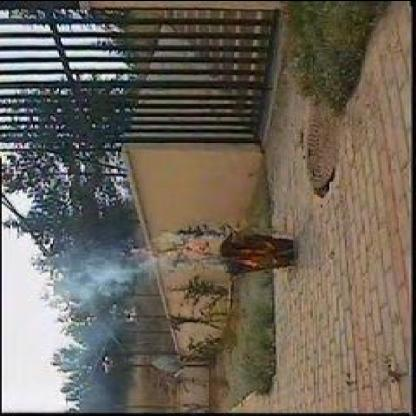-: (48, 244, 142, 300)
foggia-v2-map80-epoch100 - v1 4323: (174, 241, 268, 269)
